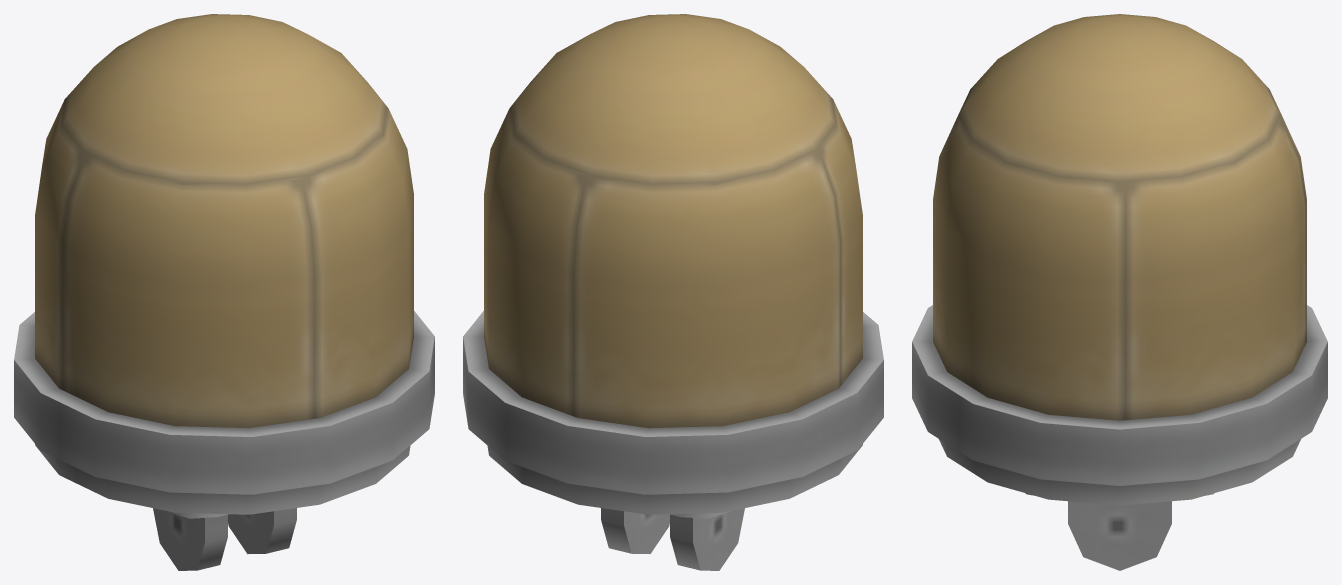
File: Alniyat_Antenna_2_3.obj
The picture shows the model from 3 angles, left to right: view 1: azimuth 30°, elevation 25°; view 2: azimuth 150°, elevation 25°; view 3: azimuth 270°, elevation 25°; orthographic projection. The views are drawn at different scales.
Visible parts, largest first — view 1: Alniyat_Antenna_2_3; view 2: Alniyat_Antenna_2_3; view 3: Alniyat_Antenna_2_3.
Part boxes in pixels (x1,y1,x2,y2): Alniyat_Antenna_2_3: [14, 14, 434, 570]; Alniyat_Antenna_2_3: [463, 14, 883, 570]; Alniyat_Antenna_2_3: [912, 14, 1327, 570].
Bounding box in the file's own units: 0.2 × 0.275 × 0.2.
